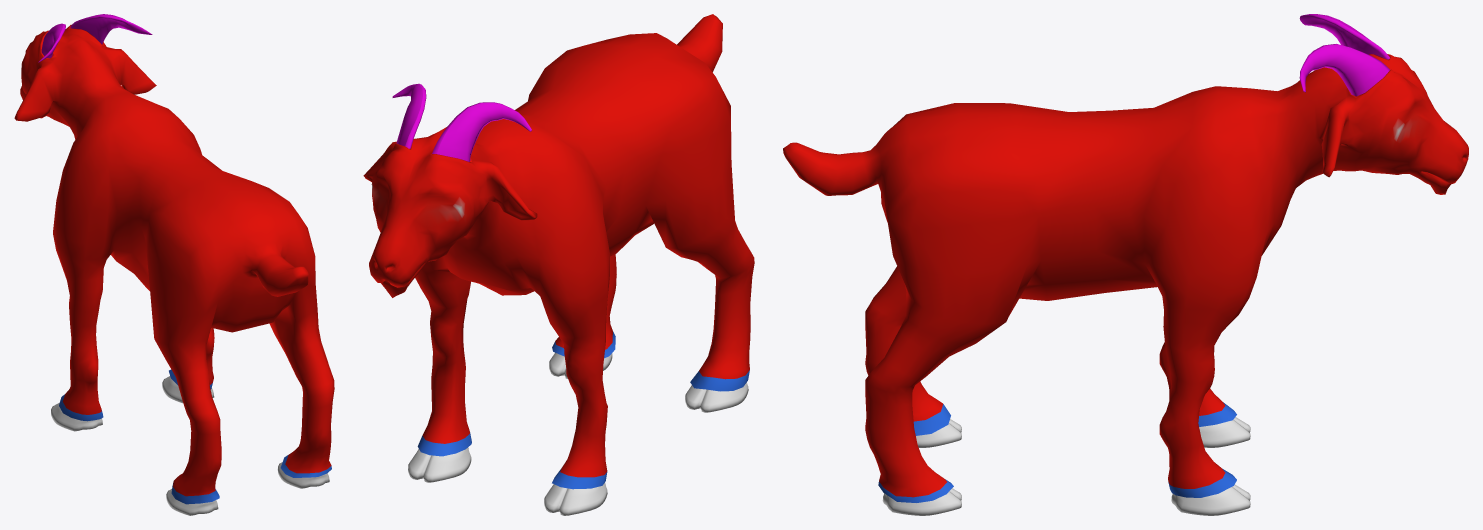
Rendered from Goat.fbx.
3 views of the same model, side by side, from view 1: azimuth 30°, elevation 25°; view 2: azimuth 150°, elevation 25°; view 3: azimuth 270°, elevation 25° (orthographic). The views are drawn at different scales.
Parts seen in each view (by area): view 1: Tiger.002; view 2: Tiger.002; view 3: Tiger.002.
Part boxes in pixels (<box>): Tiger.002: <box>14,14,334,515</box>; Tiger.002: <box>363,14,754,515</box>; Tiger.002: <box>783,14,1468,515</box>.
Bounding box in the file's own units: 42.39 × 93.39 × 132.
